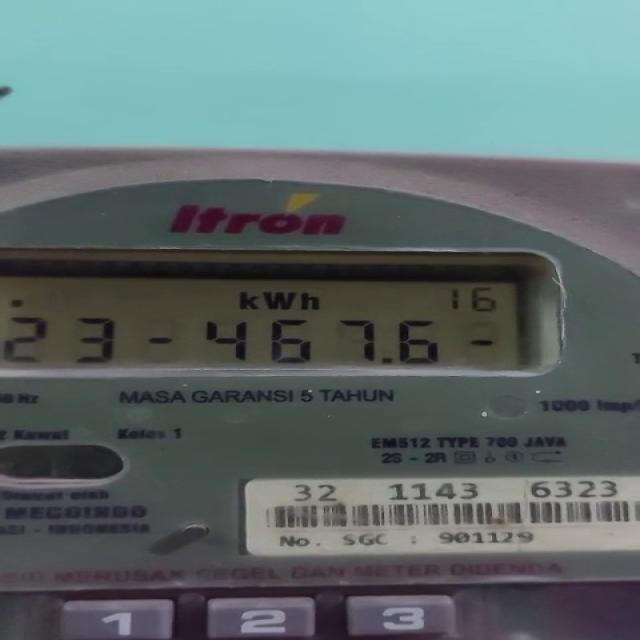LCD: (0, 256, 553, 376)
